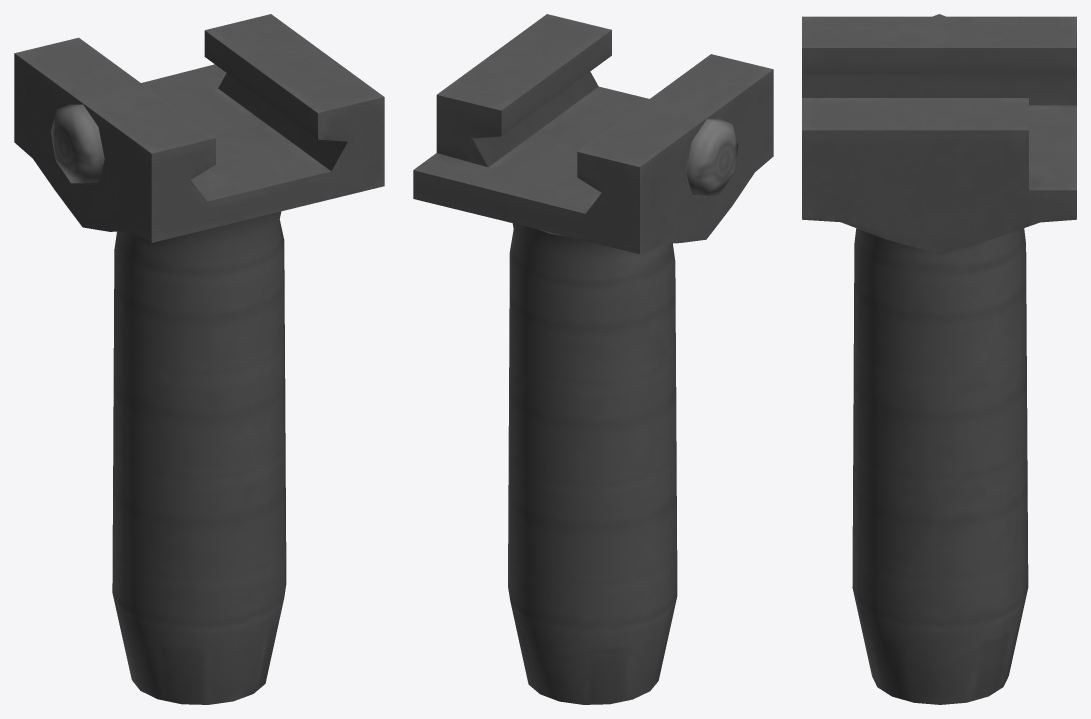
Rendered from IG_Acc_Grip_ALL_REC_2.fbx.
The picture shows the model from 3 angles, left to right: view 1: azimuth 30°, elevation 25°; view 2: azimuth 150°, elevation 25°; view 3: azimuth 270°, elevation 25°; orthographic projection. The views are drawn at different scales.
Parts seen in each view (by area): view 1: Acc_Grip_ALL_REC_2; view 2: Acc_Grip_ALL_REC_2; view 3: Acc_Grip_ALL_REC_2.
Part boxes in pixels (x1=…): Acc_Grip_ALL_REC_2: x1=14, y1=14, x2=384, y2=704; Acc_Grip_ALL_REC_2: x1=413, y1=14, x2=773, y2=704; Acc_Grip_ALL_REC_2: x1=802, y1=14, x2=1076, y2=704.
Size of the model in its own units: 0.0925 by 0.2117 by 0.0876.
